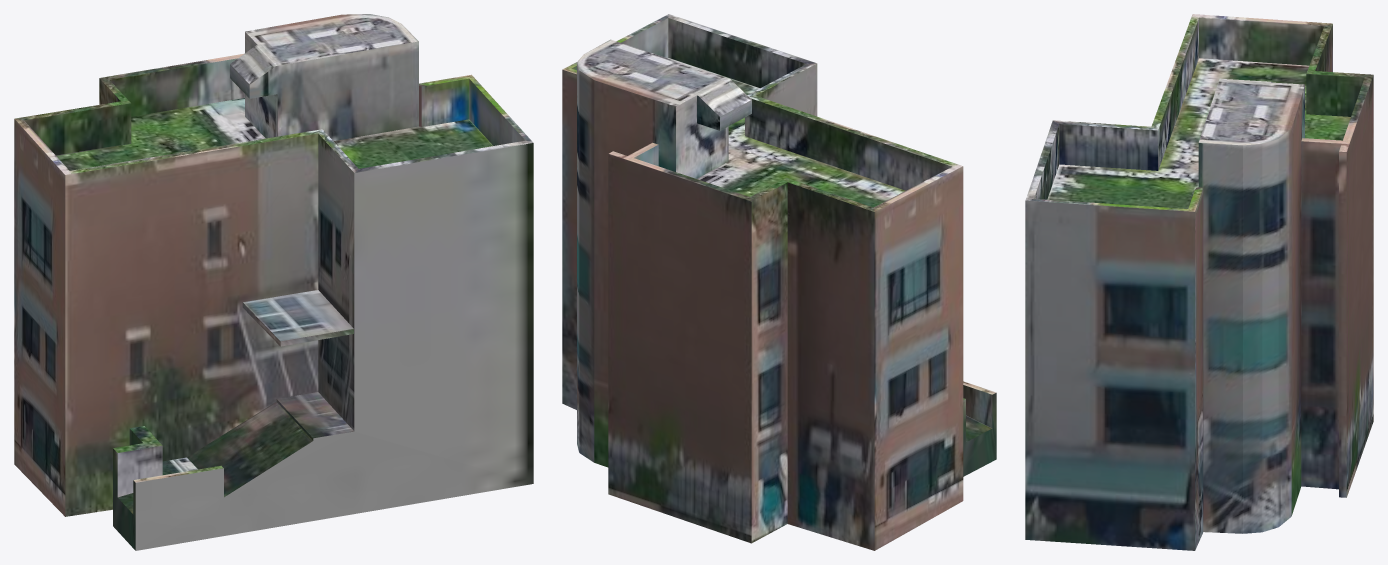
3 views of the same model, side by side, from view 1: azimuth 30°, elevation 25°; view 2: azimuth 150°, elevation 25°; view 3: azimuth 270°, elevation 25° (orthographic). The views are drawn at different scales.
Visible parts, largest first — view 1: B281184038001063A0; view 2: B281184038001063A0; view 3: B281184038001063A0.
Part boxes in pixels (box(x1,y1,x2,y2)): B281184038001063A0: box(14, 14, 533, 550); B281184038001063A0: box(562, 14, 996, 550); B281184038001063A0: box(1025, 14, 1373, 550).
Size of the model in its own units: 13.1 by 12.08 by 9.74.
Materials: 1 (1 with a texture image).
